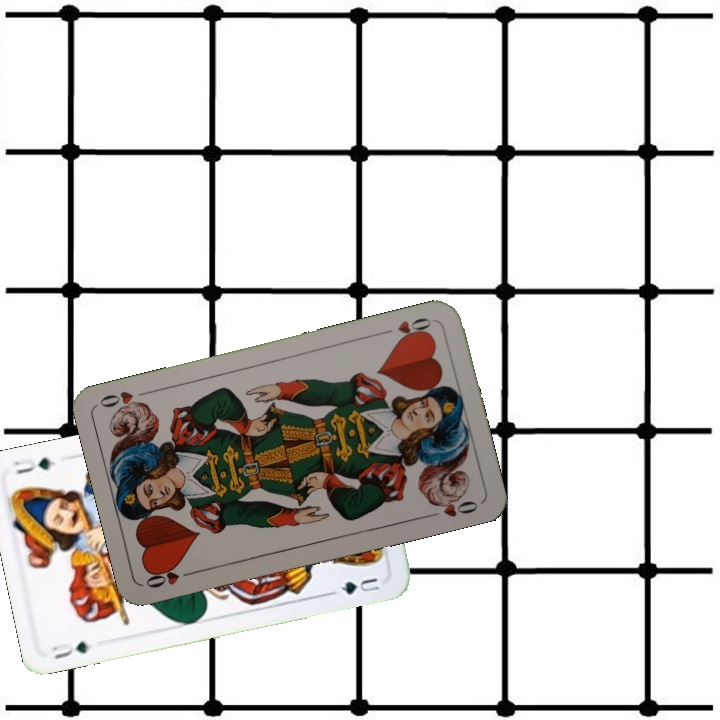GU: (47, 637, 92, 662)
HO: (378, 313, 436, 344), (141, 563, 200, 591)
